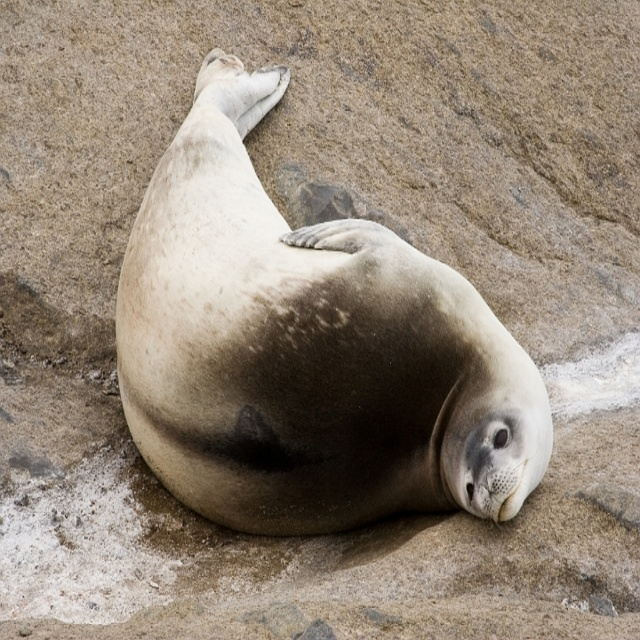Harbor seal: (119, 48, 556, 525)
